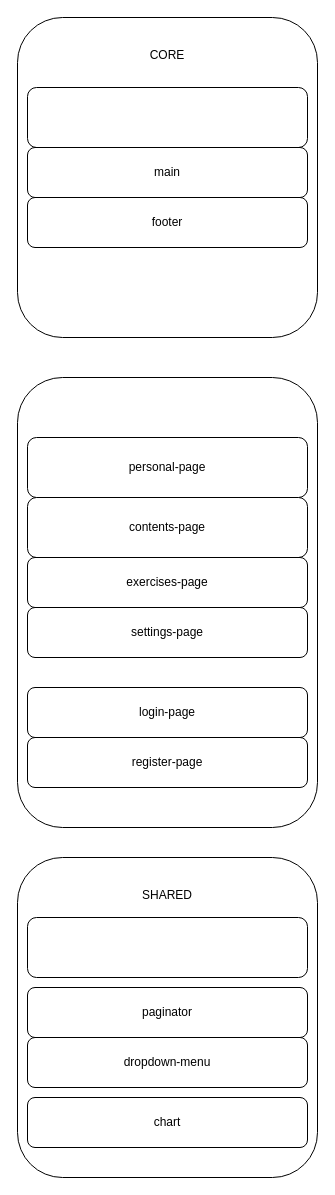
Some shapes in this 335 by 1195 pixel diagram are drawn without their labels. The box of each missing label's shape, as (x1, y1, x2, y2) in pixels:
header: (26, 86, 308, 148)
navbar: (26, 916, 308, 978)
PAGES: (16, 376, 318, 828)
